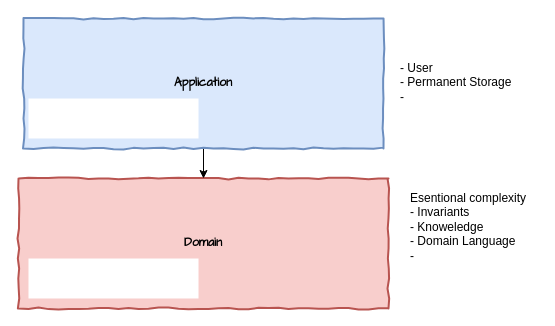
This 555x326 diagram has some shape labels left out. The shapes that lost their labels are listed below. From the top down, each one's box as (x1, y1, x2, y2) in pixels, then its label:
(28, 98, 198, 138): CreditCardFacade
(28, 258, 198, 298): CreditCard
